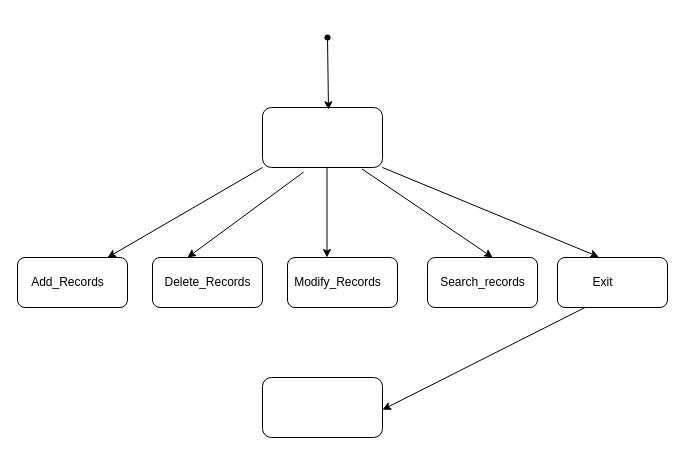
Some shapes in this 685 by 455 pixel diagram are drawn without their labels. The box of each missing label's shape, as (x1, y1, x2, y2) in pixels:
Choice: (262, 106, 382, 168)
Exit of the program: (262, 376, 382, 438)
